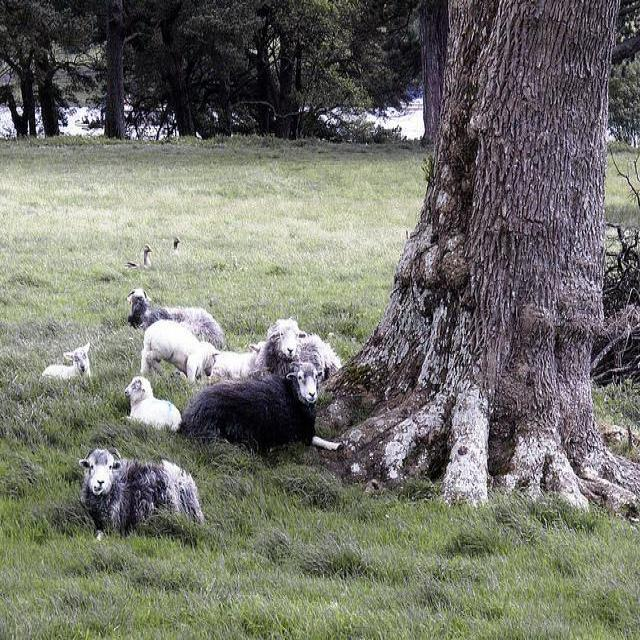Sheep: (181, 362, 329, 455), (79, 447, 204, 541), (125, 289, 224, 351), (141, 320, 219, 394), (216, 323, 307, 383), (268, 318, 342, 372), (121, 376, 183, 432), (38, 340, 96, 392)
